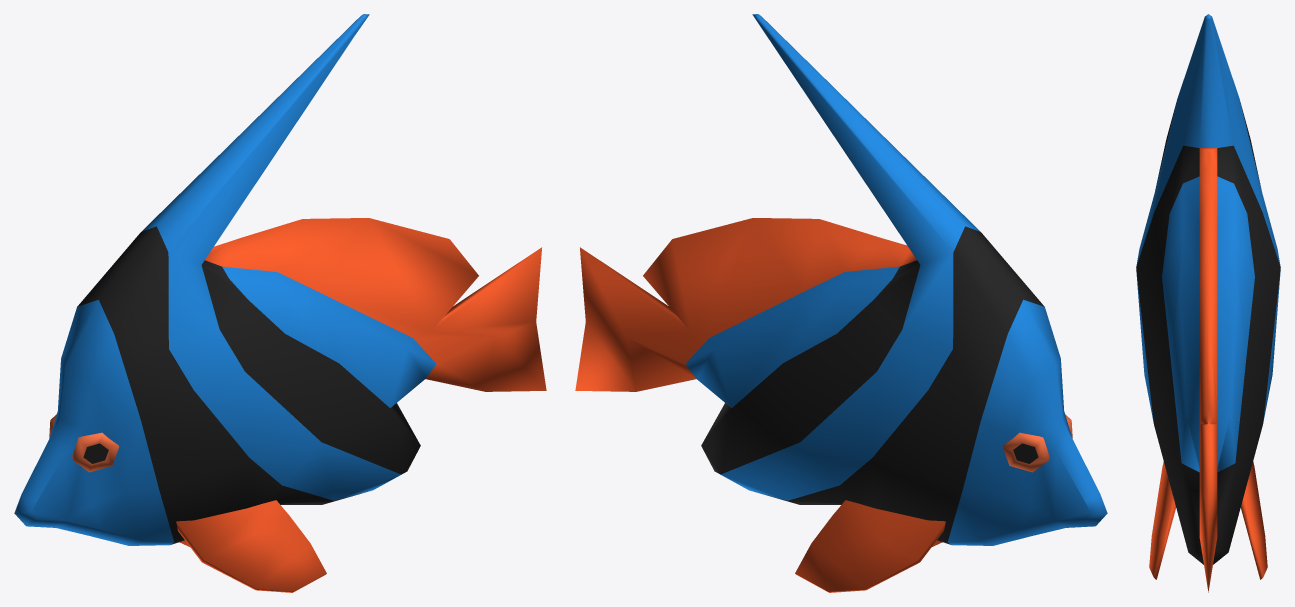
Rendered from Fish-1.glb.
3 views of the same model, side by side, from view 1: azimuth 30°, elevation 25°; view 2: azimuth 150°, elevation 25°; view 3: azimuth 270°, elevation 25° (orthographic). The views are drawn at different scales.
Visible parts, largest first — view 1: Fish_034; view 2: Fish_034; view 3: Fish_034.
Boxes of the visible parts, x1,y1,x2,y2 form: Fish_034: (14,14,546,592); Fish_034: (575,14,1107,592); Fish_034: (1136,14,1280,592).
Size of what is drawn, in the model's own units: 0.61 by 0.5885 by 0.1267.
Materials: 1 (1 with a texture image).
